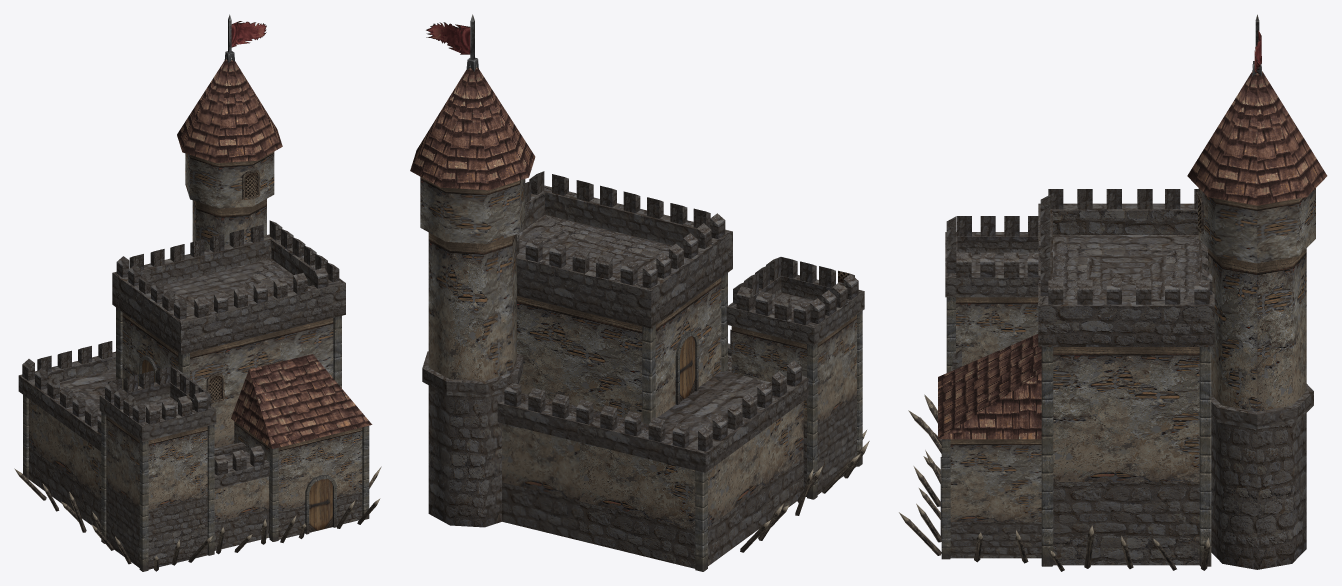
File: SC_yonghengsenlin_23.FBX
3 renders of one model, left to right at view 1: azimuth 30°, elevation 25°; view 2: azimuth 150°, elevation 25°; view 3: azimuth 270°, elevation 25°, orthographic. The views are drawn at different scales.
Visible parts, largest first — view 1: SC_yonghengsenlin_23; view 2: SC_yonghengsenlin_23; view 3: SC_yonghengsenlin_23.
Part boxes in pixels (x1=…): SC_yonghengsenlin_23: x1=14, y1=14, x2=381, y2=571; SC_yonghengsenlin_23: x1=410, y1=14, x2=869, y2=571; SC_yonghengsenlin_23: x1=899, y1=14, x2=1327, y2=571.
Bounding box in the file's own units: 1283 × 1797 × 1292.
